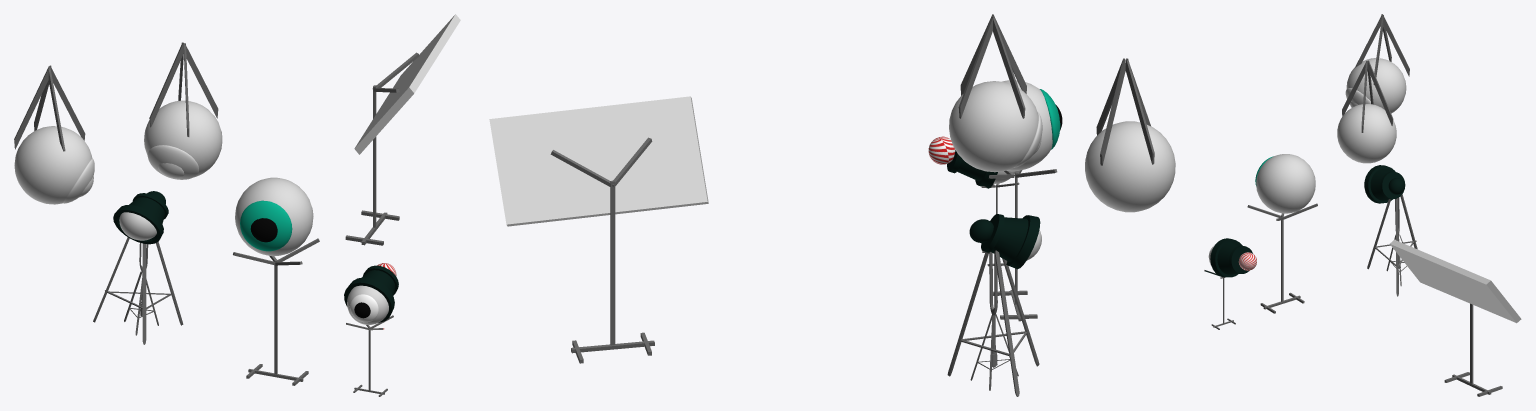
Rendered from Focos.fbx.
The picture shows the model from 3 angles, left to right: view 1: azimuth 30°, elevation 25°; view 2: azimuth 150°, elevation 25°; view 3: azimuth 270°, elevation 25°; orthographic projection. The views are drawn at different scales.
Visible parts, largest first — view 1: Sphere030, Sphere023, Sphere032, Cylinder041, Box079, Sphere028; view 2: Box079, Sphere032, Sphere030, Cylinder041, Sphere023, Sphere028; view 3: Box079, Sphere023, Sphere032, Sphere030, Cylinder041, Sphere028.
Part boxes in pixels (x1,y1,x2,y2): Sphere030: (14, 65, 94, 204); Sphere023: (233, 177, 319, 385); Sphere032: (144, 42, 222, 179); Cylinder041: (93, 191, 183, 344); Box079: (345, 14, 460, 245); Sphere028: (344, 263, 398, 396); Box079: (489, 96, 708, 363); Sphere032: (949, 14, 1042, 172); Sphere030: (1085, 58, 1175, 212); Cylinder041: (947, 214, 1041, 396); Sphere023: (989, 80, 1062, 321); Sphere028: (928, 136, 1019, 266); Box079: (1390, 239, 1521, 396); Sphere023: (1247, 154, 1317, 313); Sphere032: (1337, 60, 1396, 163); Sphere030: (1345, 14, 1409, 113); Cylinder041: (1364, 165, 1417, 296); Sphere028: (1204, 238, 1256, 329).
Size of the model in its own units: 114 by 64.3 by 80.45.
Materials: 7 (1 with a texture image).
